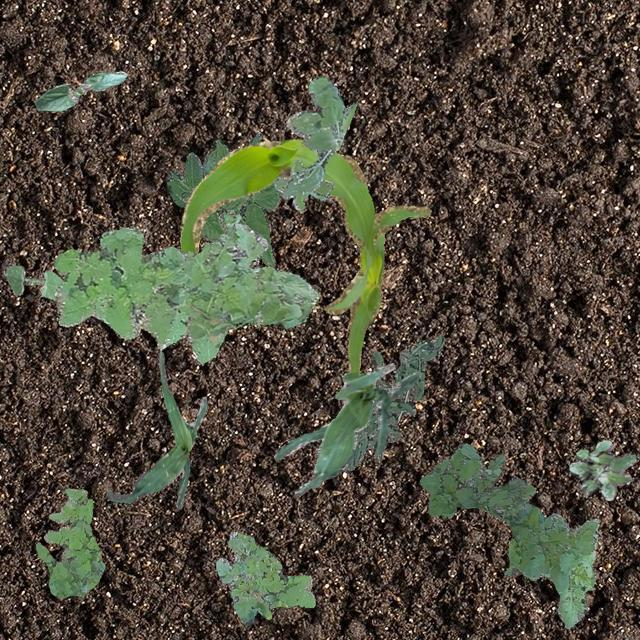crop: (180, 138, 430, 374), (272, 362, 420, 494), (106, 351, 206, 508), (168, 132, 280, 266), (34, 70, 126, 110), (3, 264, 62, 298), (220, 210, 240, 236)
weed: (54, 222, 318, 364), (418, 442, 598, 628), (344, 334, 444, 470), (280, 76, 356, 198), (215, 530, 313, 624), (34, 488, 104, 596), (568, 440, 634, 500), (272, 158, 332, 208)
